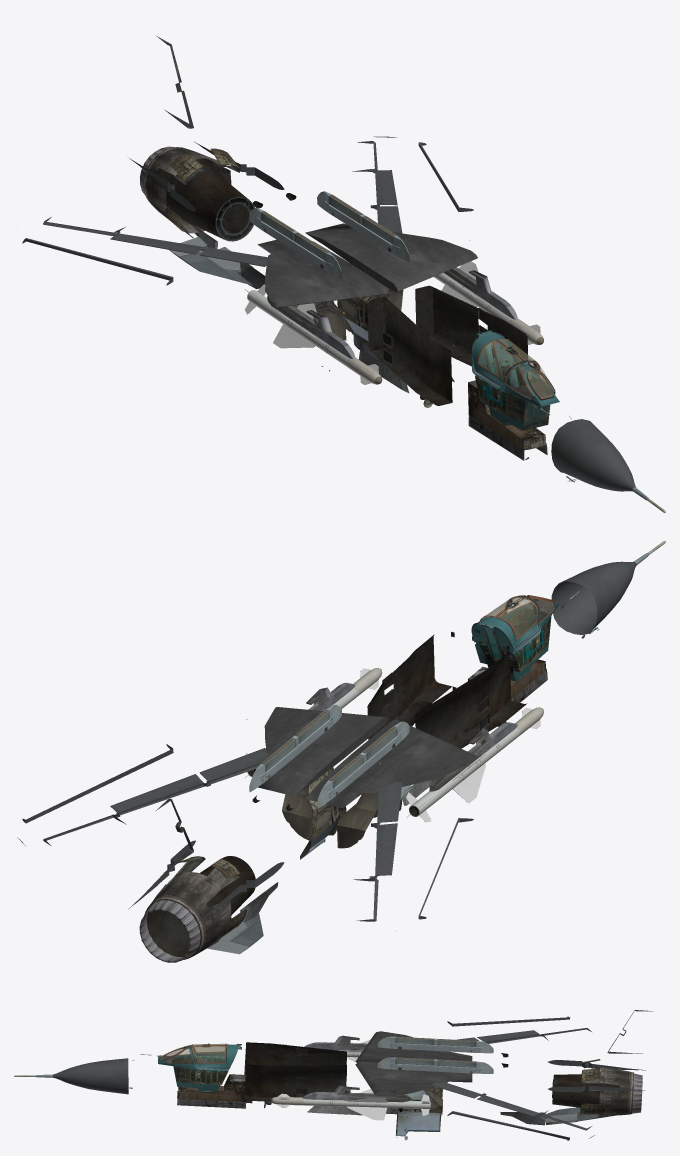
Rendered from mig23.glb.
3 renders of one model, top to bottom at view 1: azimuth 30°, elevation 25°; view 2: azimuth 150°, elevation 25°; view 3: azimuth 270°, elevation 25°, orthographic. The views are drawn at different scales.
Parts seen in each view (by area): view 1: mig23mld_fuz, r025, OBJ0257, r24, OBJ0024, canopy, OBJ205, OBJ0275; view 2: mig23mld_fuz, OBJ0257, r025, soplo_nab_0, OBJ0024, canopy, OBJ0275, OBJ205, OBJ0274, r24; view 3: mig23mld_fuz, r24, OBJ0043, OBJ0257, OBJ0264, canopy, OBJ0378, OBJ0047, OBJ0024, OBJ0262, soplo_nab_0, stab2 (+4 smaller).
Part boxes in pixels (box(x1,y1,x2,y2)): mig23mld_fuz: box(140, 146, 665, 512); r025: box(244, 284, 382, 384); OBJ0257: box(357, 136, 471, 247); r24: box(434, 261, 543, 344); OBJ0024: box(169, 236, 253, 285); canopy: box(472, 330, 537, 388); OBJ205: box(477, 340, 522, 380); OBJ0275: box(110, 233, 203, 254); mig23mld_fuz: box(135, 541, 665, 959); OBJ0257: box(18, 719, 320, 845); r025: box(406, 707, 543, 822); soplo_nab_0: box(139, 900, 200, 962); OBJ0024: box(207, 914, 263, 954); canopy: box(471, 596, 540, 651); OBJ0275: box(375, 824, 397, 875); OBJ205: box(498, 597, 537, 639); OBJ0274: box(377, 782, 402, 822); r24: box(245, 668, 382, 777); mig23mld_fuz: box(14, 1031, 638, 1125); r24: box(270, 1089, 430, 1120); OBJ0043: box(395, 1110, 441, 1136); OBJ0257: box(398, 1073, 594, 1140); OBJ0264: box(413, 1016, 591, 1052); canopy: box(190, 1043, 241, 1070); OBJ0378: box(192, 1045, 226, 1063); OBJ0047: box(177, 1097, 246, 1108); OBJ0024: box(545, 1107, 580, 1124); OBJ0262: box(448, 1111, 569, 1139); soplo_nab_0: box(632, 1073, 642, 1113); stab2: box(548, 1085, 645, 1092).
Size of the model in its own units: 1.98 by 1.02 by 4.38.
Materials: 28 (21 with a texture image).
